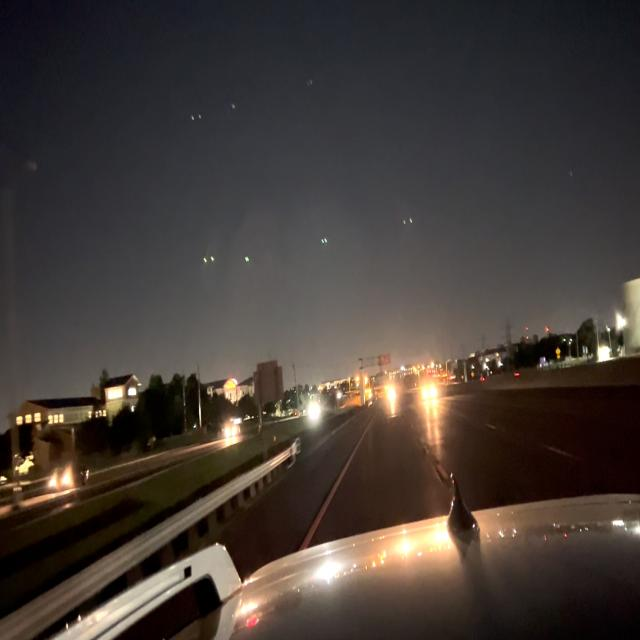back-of-sign: (253, 361, 285, 409)
